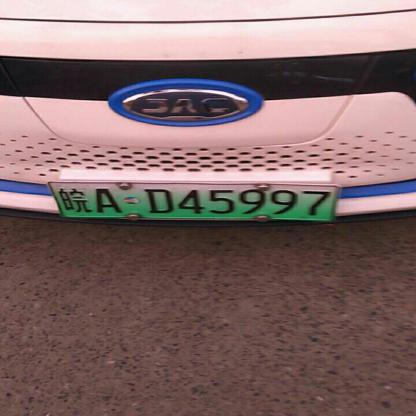lp: (48, 182, 64, 222)
